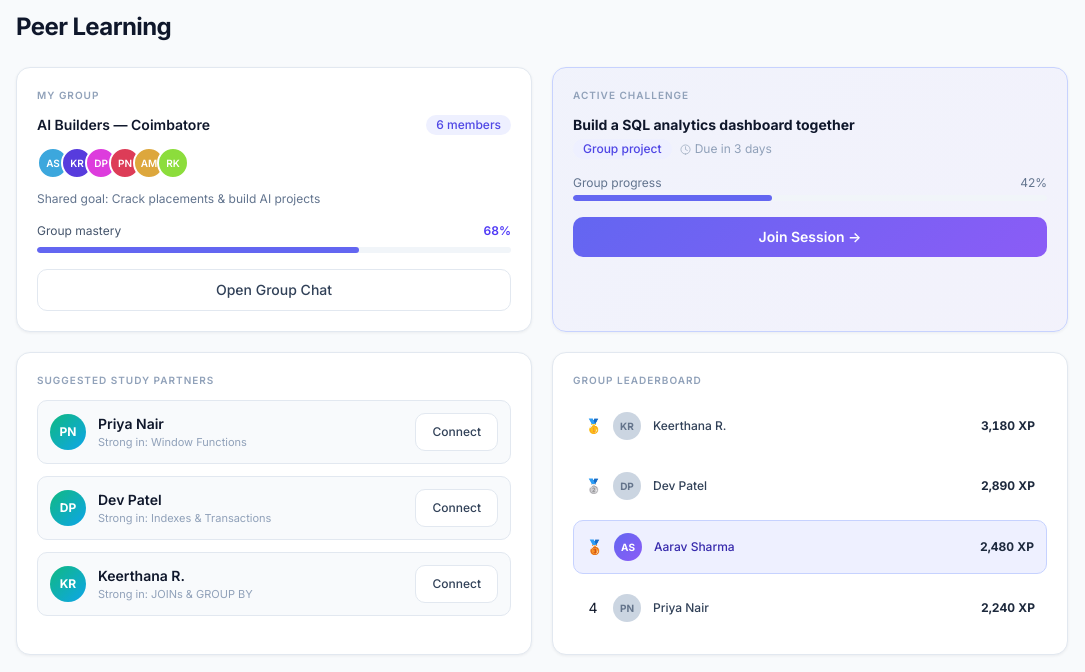
it: Student Screens & Interactive Navigation Test Suite › Goal Roadmap, Projects, Mentor & Peer Learning › PeerLearning supports toggling active challenge session
The image size is (1085, 672).
Check: the text "AI Builders — Coimbatore" is shown, box x1=37 y1=115 x2=210 y2=135
Click the button "Join Session →" at (810, 237), box x1=573 y1=217 x2=1047 y2=257
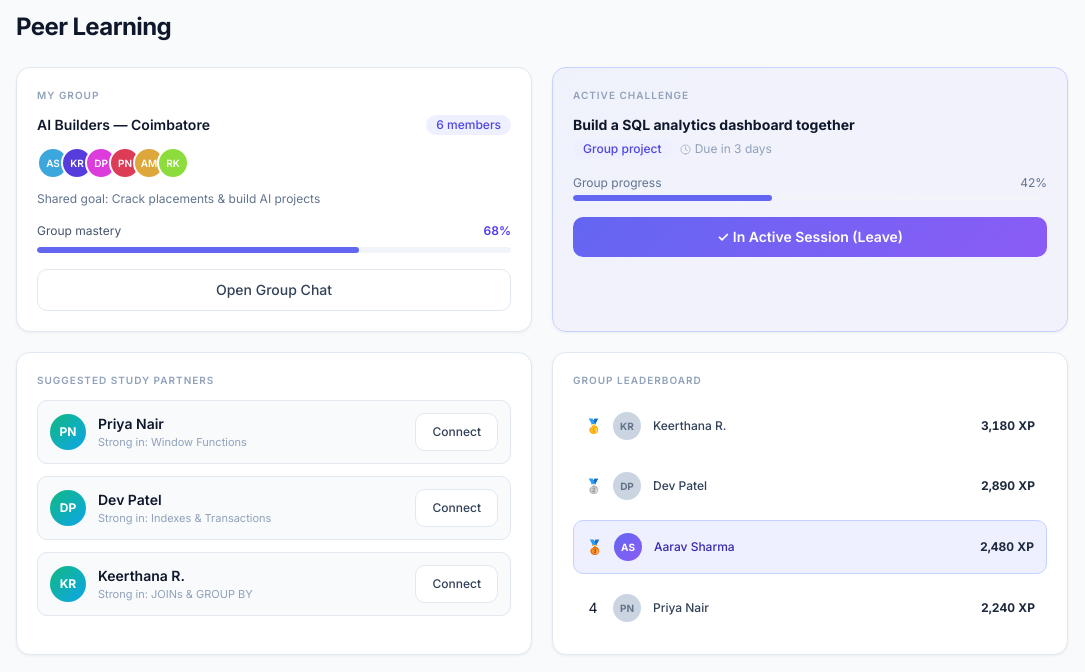
Check: the button "✓ In Active Session (Leave)" is shown, box x1=573 y1=217 x2=1047 y2=257
